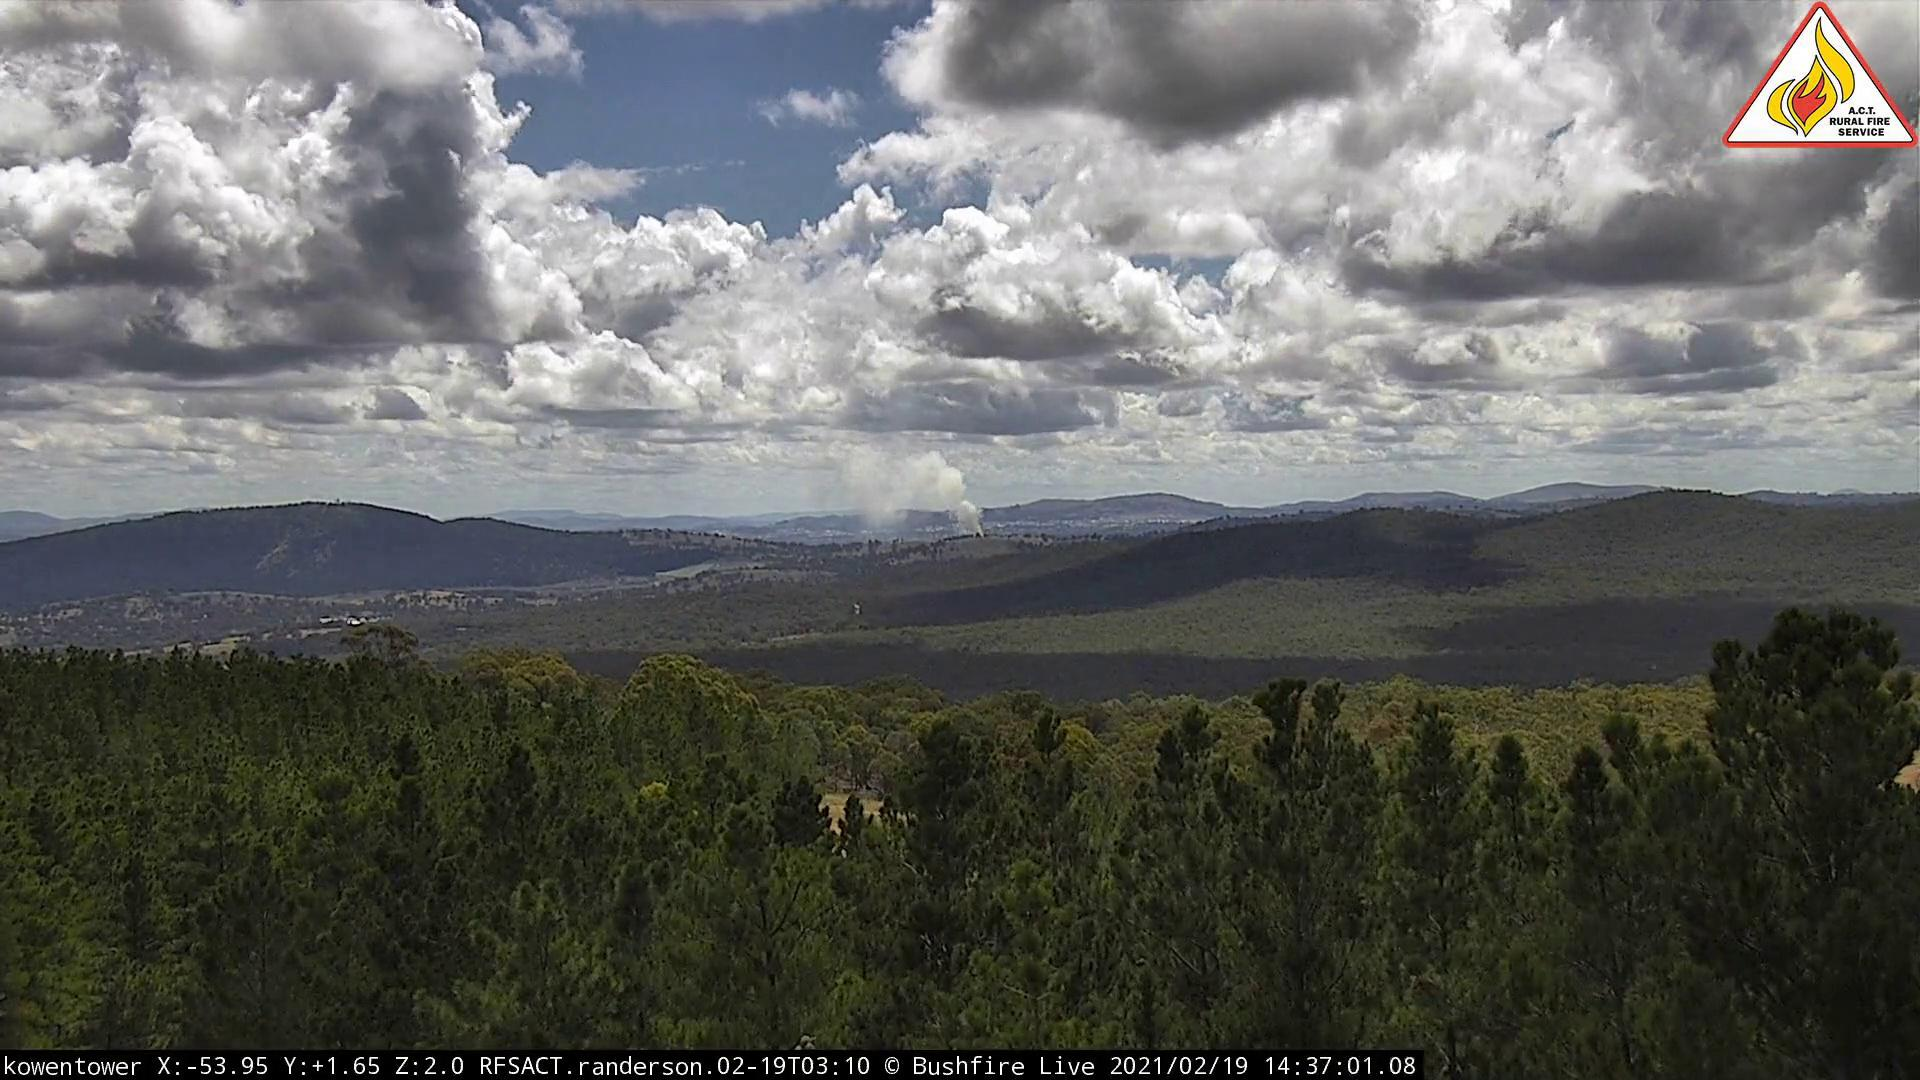Smoke: (793, 444, 992, 547)
